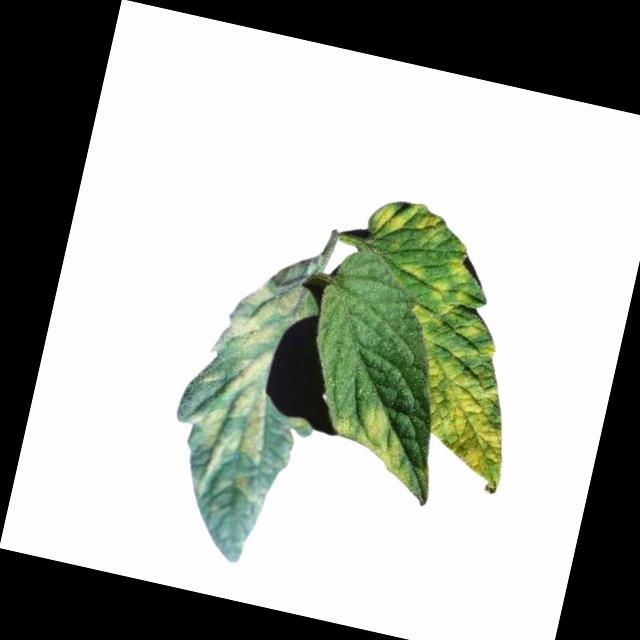Leaf_Mold: (160, 241, 316, 511), (404, 353, 528, 487), (326, 398, 424, 490), (409, 273, 468, 333), (451, 321, 503, 367), (364, 196, 410, 243), (410, 207, 453, 255), (448, 251, 481, 285)
